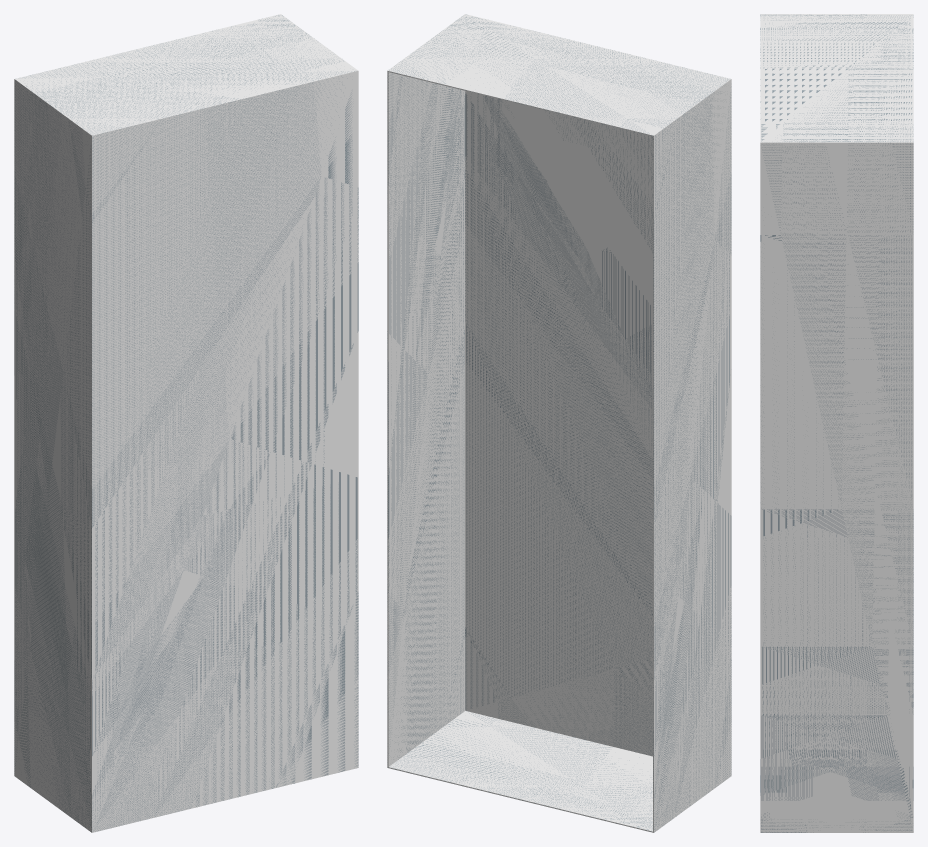
The model's file is 12_IconicFrame_1_300-0x750-0x151-2.dae.
3 views of the same model, side by side, from view 1: azimuth 30°, elevation 25°; view 2: azimuth 150°, elevation 25°; view 3: azimuth 270°, elevation 25° (orthographic).
Visible parts, largest first — view 1: SketchUp; view 2: SketchUp_Instance_0, SketchUp; view 3: SketchUp.
Part boxes in pixels (box(x1,y1,x2,y2)): SketchUp: box(14, 14, 358, 832); SketchUp_Instance_0: box(388, 72, 652, 831); SketchUp: box(387, 14, 731, 832); SketchUp: box(760, 14, 913, 832).
Bounding box in the file's own units: 11.81 × 5.95 × 29.53.
